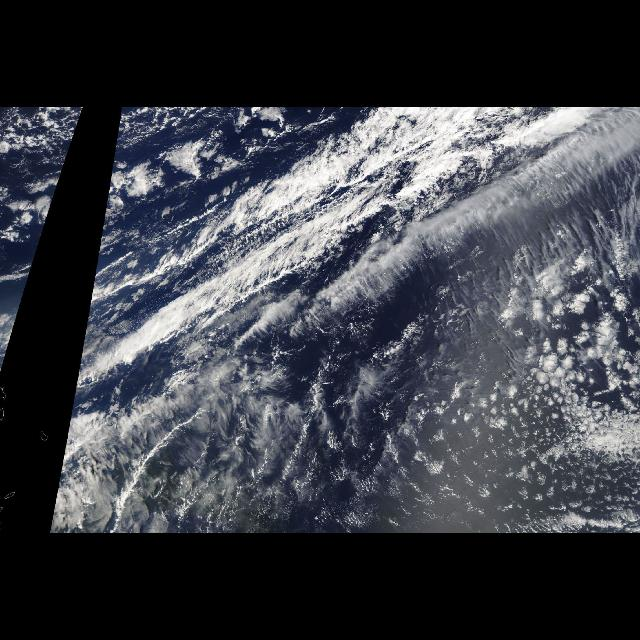Fish: (62, 338, 360, 534), (310, 110, 522, 212), (179, 214, 363, 320)
Flower: (374, 266, 638, 528)
